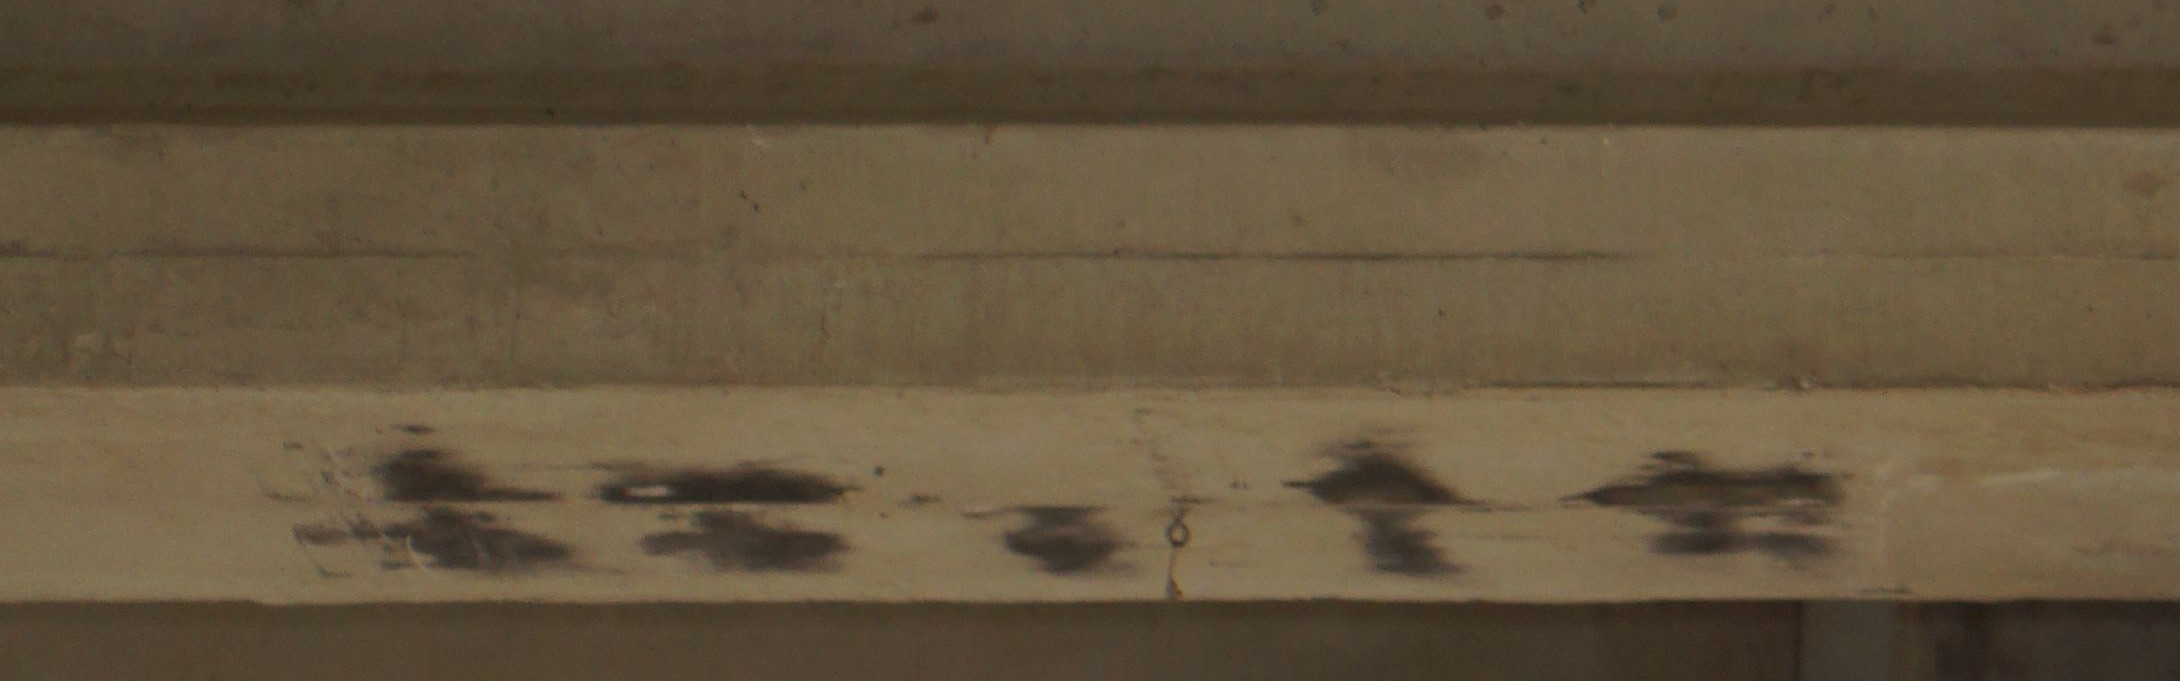Corrosion: (1557, 450, 1848, 557), (1279, 441, 1493, 580), (292, 504, 573, 578), (633, 510, 849, 574), (959, 504, 1141, 577), (592, 459, 863, 504), (368, 448, 563, 504), (388, 424, 434, 436)
